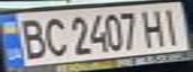0: (103, 10, 124, 52)
2: (66, 12, 90, 56)
4: (87, 11, 109, 53)
7: (121, 8, 142, 51)
B: (12, 15, 51, 61)
C: (39, 14, 69, 57)
H: (139, 7, 169, 47)
I: (157, 4, 187, 46)
